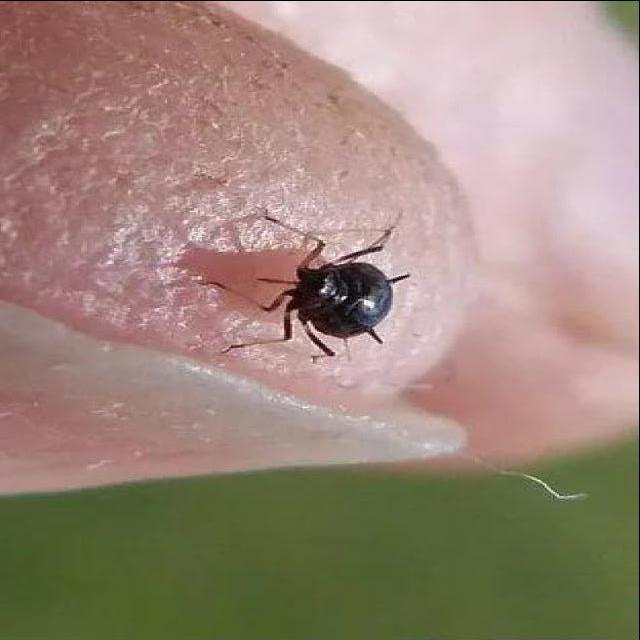aphid: (250, 244, 421, 359)
